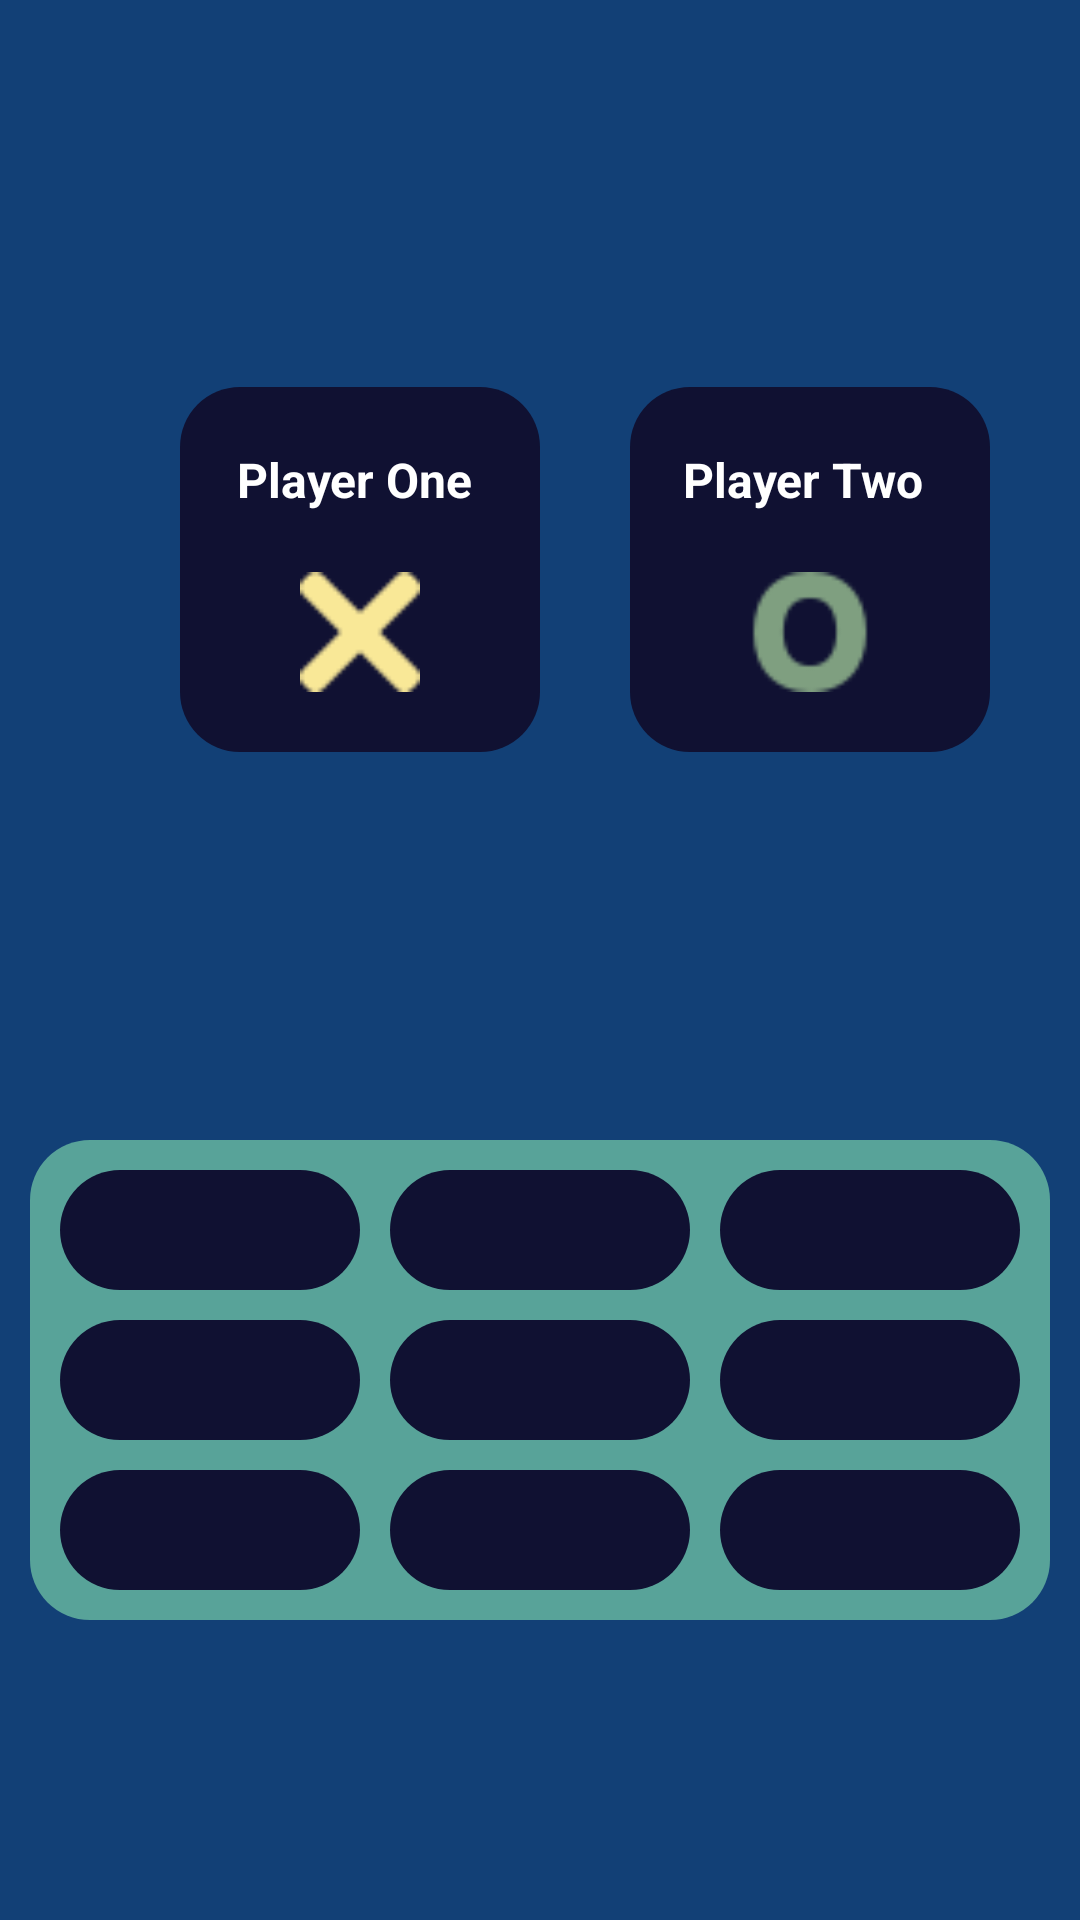

Point at icon controls on the screen. Image size 1080×1920, points as point (x, y).
close: point (360, 632)
